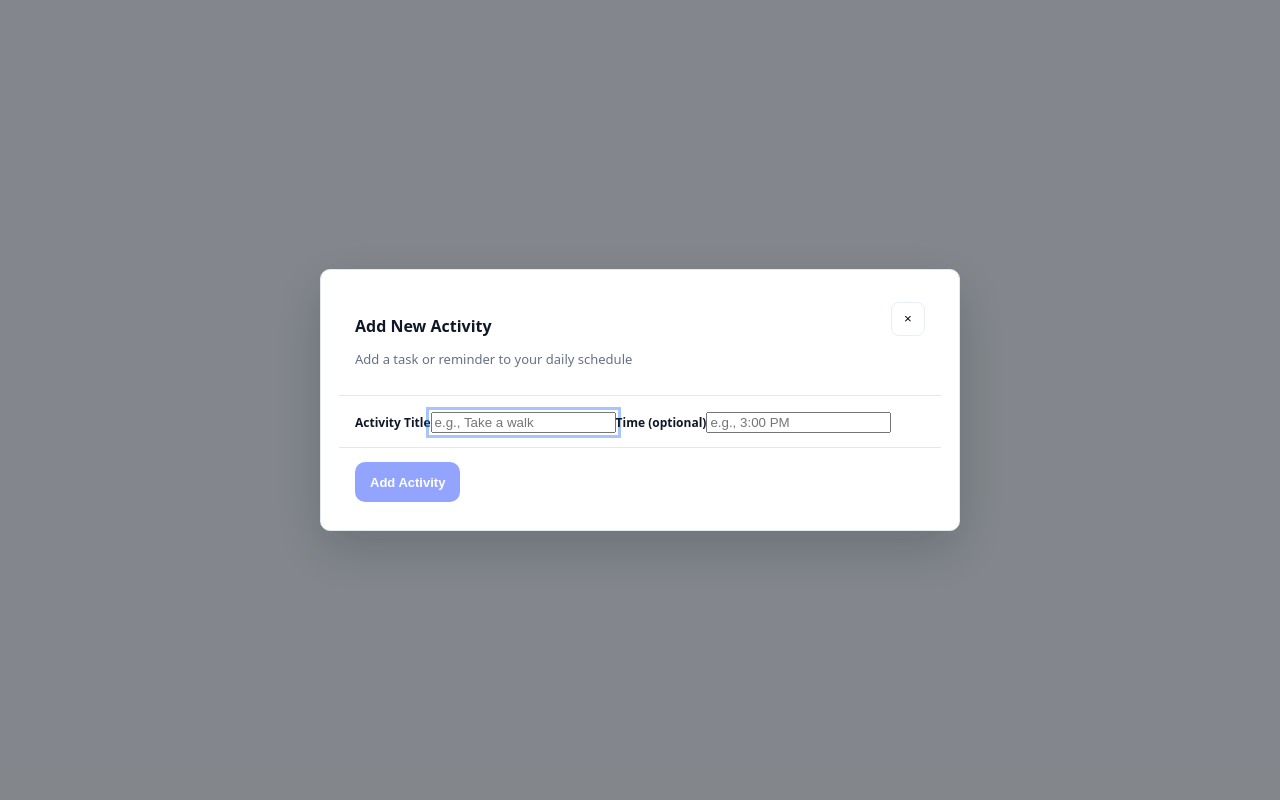
Test: AddActivityModal interactive test › submit button starts disabled and becomes enabled when title is entered
The width and height of the screenshot is (1280, 800).
expect the button "Add Activity" is disabled: met, box [355,462,460,502]
Type "Take a walk" into the field labelled "Activity Title" at [523, 423], box [430,412,616,433]
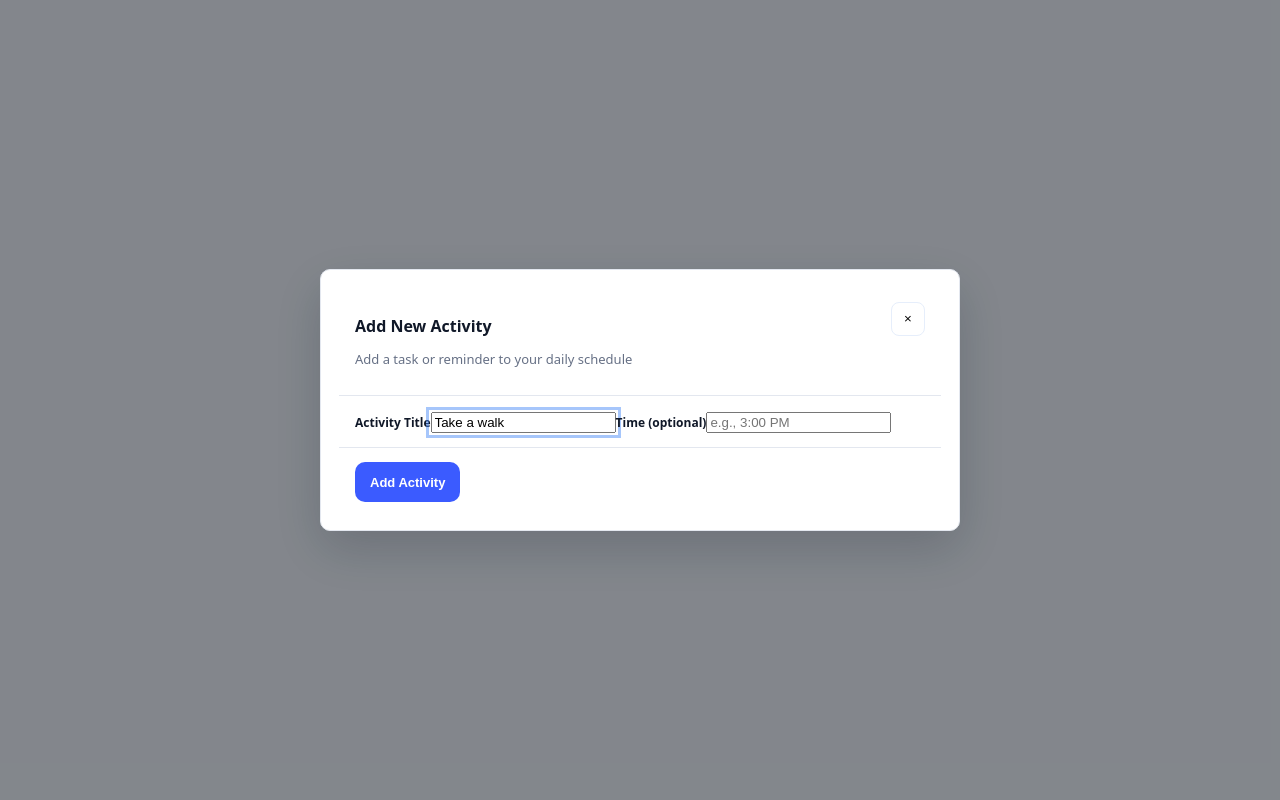
expect the button "Add Activity" is enabled: met, box [355,462,460,502]
